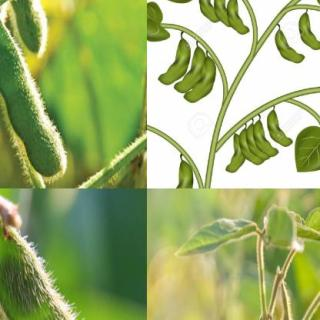soya: (0, 206, 143, 320), (0, 20, 68, 178), (3, 0, 49, 55), (183, 57, 216, 104), (157, 40, 190, 86), (173, 48, 205, 93), (265, 110, 294, 148), (273, 30, 305, 64), (252, 120, 279, 158), (238, 127, 264, 166), (247, 122, 271, 160), (163, 160, 194, 188), (227, 0, 251, 36), (298, 12, 320, 51), (224, 134, 245, 172), (213, 0, 231, 28), (197, 0, 218, 22), (282, 283, 292, 319)
